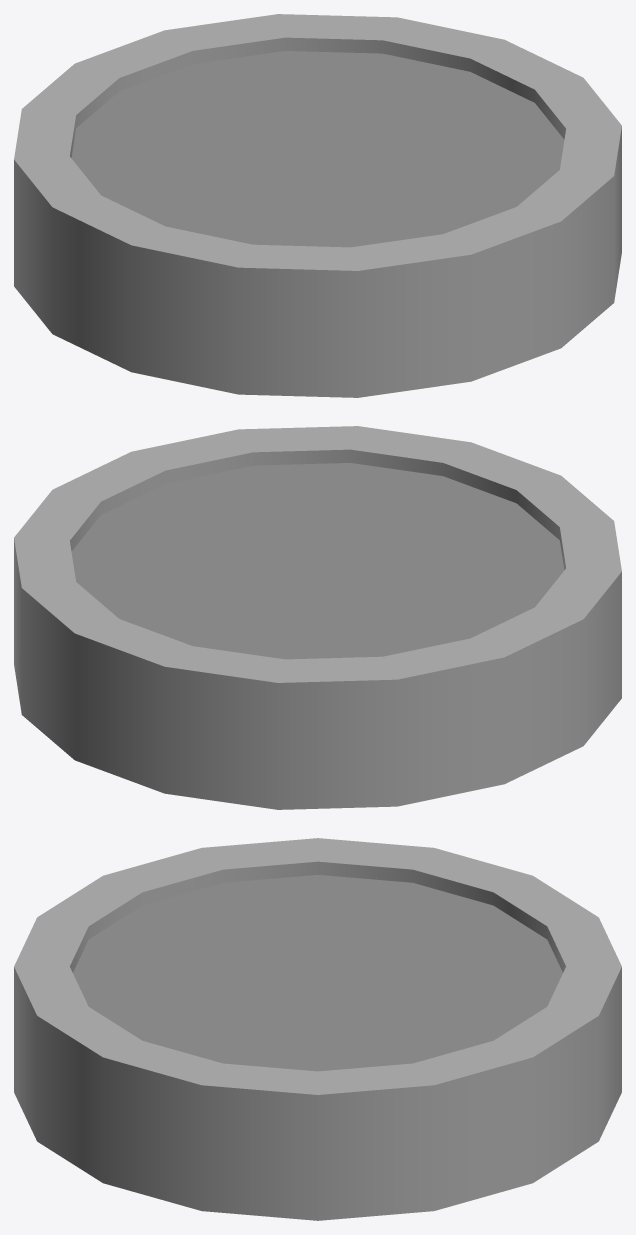
File: Silver_Coin.fbx
3 renders of one model, top to bottom at view 1: azimuth 30°, elevation 25°; view 2: azimuth 150°, elevation 25°; view 3: azimuth 270°, elevation 25°, orthographic.
Visible parts, largest first — view 1: Silver_Coin; view 2: Silver_Coin; view 3: Silver_Coin.
Part boxes in pixels (x1,y1,x2,y2): Silver_Coin: (14, 14, 621, 397); Silver_Coin: (14, 426, 621, 809); Silver_Coin: (14, 838, 621, 1220).
Size of the model in its own units: 4.07 by 0.9305 by 4.07.
Materials: 1 (1 with a texture image).
